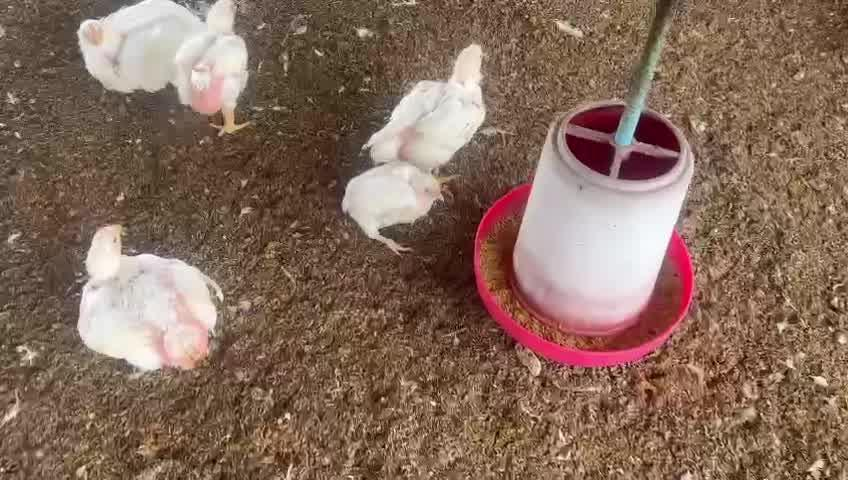AbNormal: (326, 145, 454, 261)
Normal: (79, 219, 233, 384), (371, 36, 509, 166), (180, 0, 262, 140), (62, 3, 195, 86)
